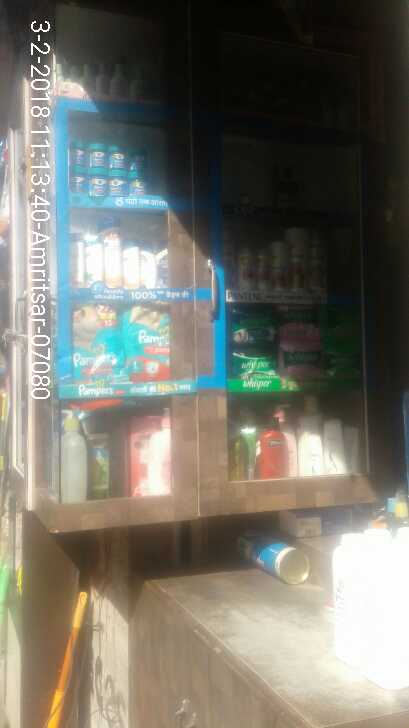vicks: (72, 143, 154, 194)
